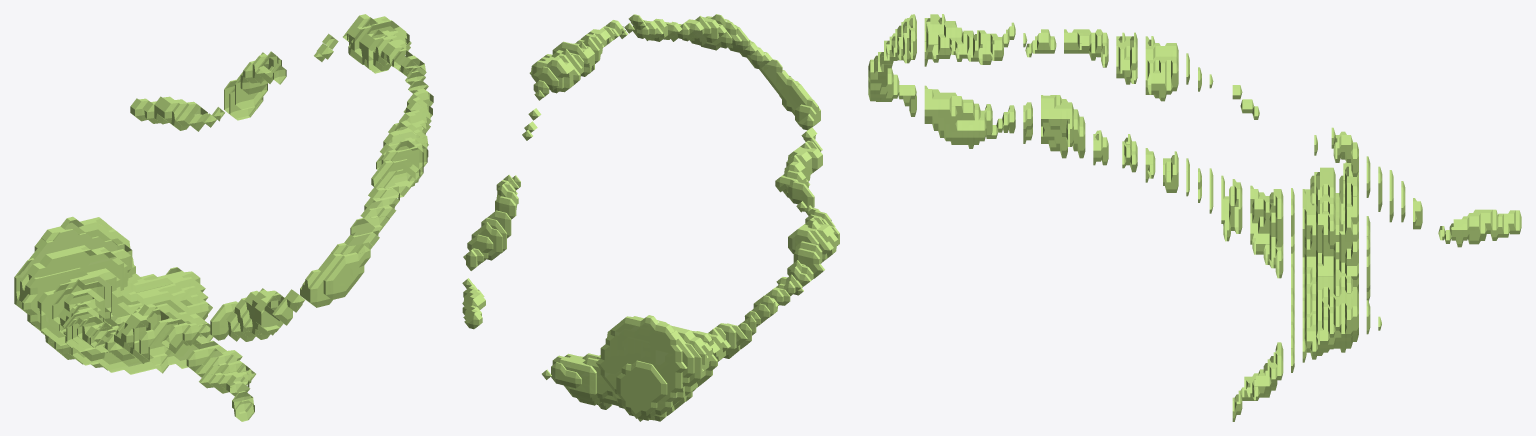
The model's file is SVV_URADR.gltf.
3 views of the same model, side by side, from view 1: azimuth 30°, elevation 25°; view 2: azimuth 150°, elevation 25°; view 3: azimuth 270°, elevation 25° (orthographic). The views are drawn at different scales.
Parts seen in each view (by area): view 1: URADR; view 2: URADR; view 3: URADR.
Part boxes in pixels (box(x1,y1,x2,y2)): URADR: box(14, 14, 433, 421); URADR: box(462, 14, 839, 421); URADR: box(868, 14, 1521, 421).
Bounding box in the file's own units: 26629 × 31247 × 43159.
